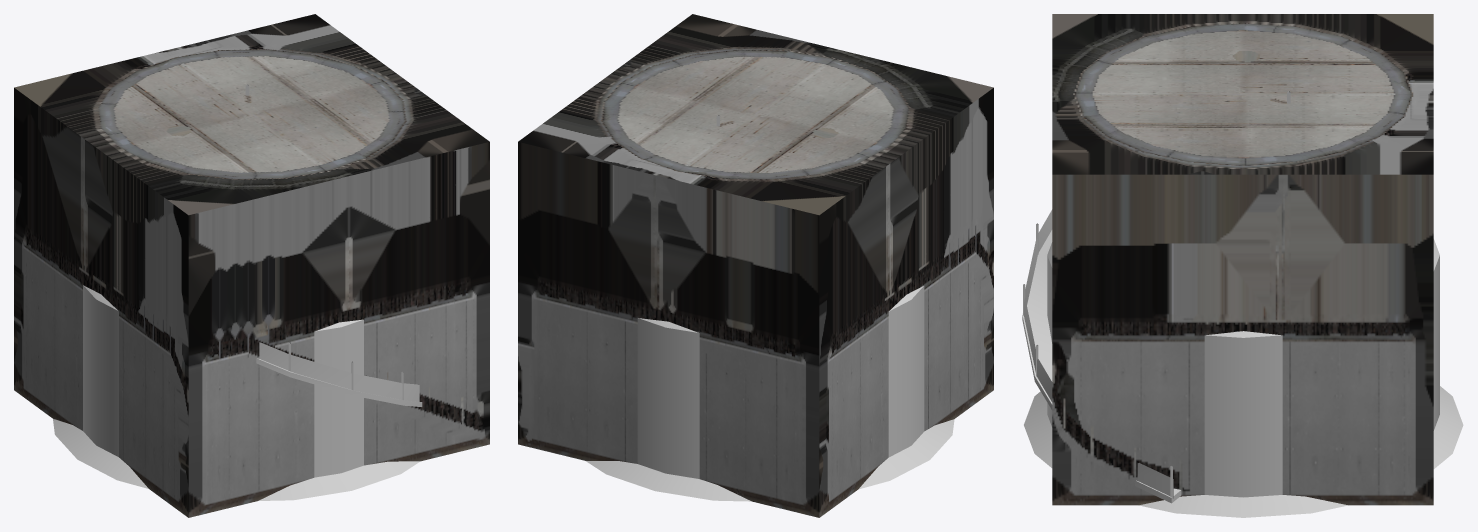
The model's file is dz_industrial_23.fbx.
3 views of the same model, side by side, from view 1: azimuth 30°, elevation 25°; view 2: azimuth 150°, elevation 25°; view 3: azimuth 270°, elevation 25° (orthographic). The views are drawn at different scales.
Visible parts, largest first — view 1: dz_industrial_23_LOD0; view 2: dz_industrial_23_LOD0; view 3: dz_industrial_23_LOD0.
Boxes of the visible parts, x1,y1,x2,y2 form: dz_industrial_23_LOD0: (14, 14, 489, 517); dz_industrial_23_LOD0: (518, 14, 993, 517); dz_industrial_23_LOD0: (1022, 14, 1463, 517).
Size of what is drawn, in the model's own units: 17.74 by 15.22 by 17.79.
